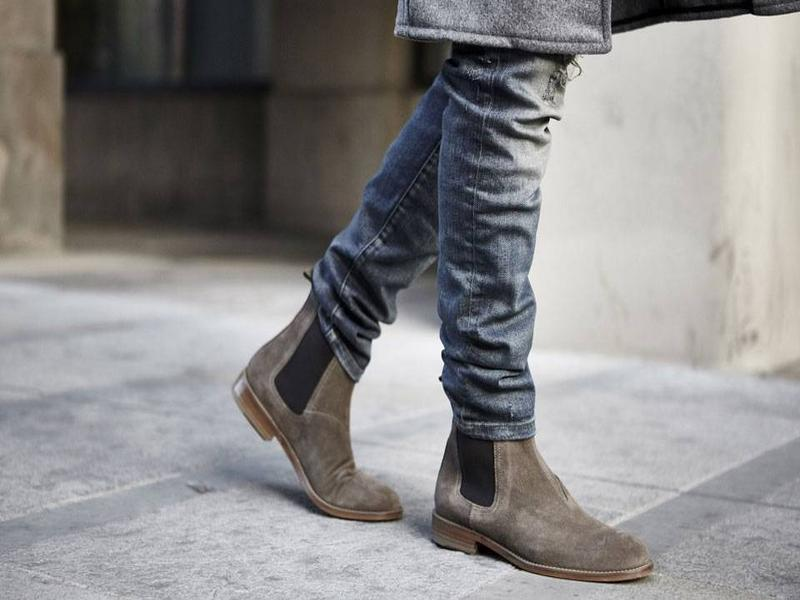shoes_men_chelsea_chelseaboots_suede_none_none_grey_none: (234, 284, 401, 538), (425, 414, 664, 584)
